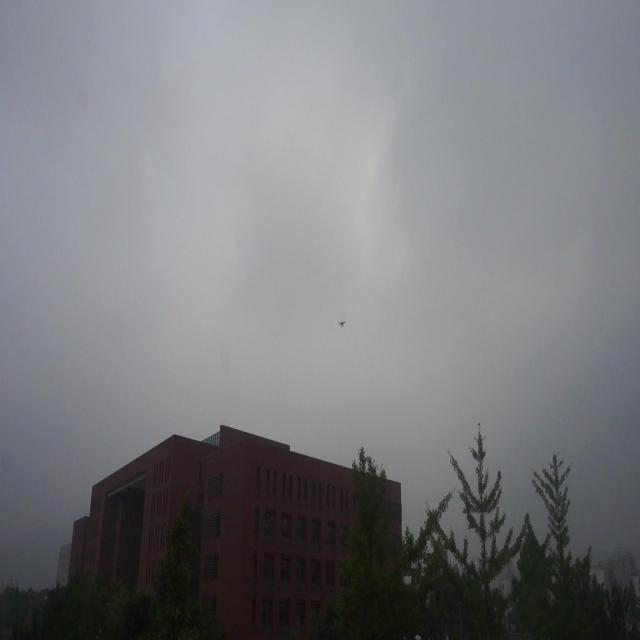UAV: (338, 321, 346, 327)
